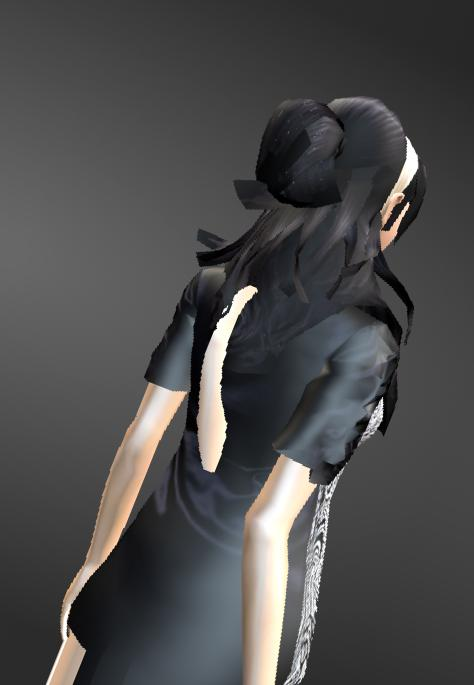clip: (219, 289, 252, 329)
